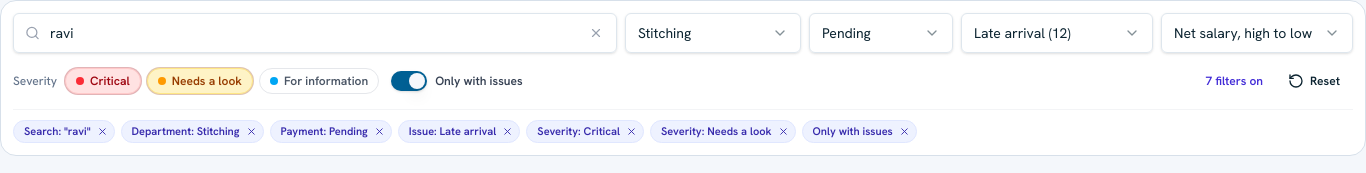
Test: the chips, the count and Reset › a chip's cross takes off that filter only
Click the button named "Clear the department filter" at (251, 131), box x1=244 y1=124 x2=258 y2=139
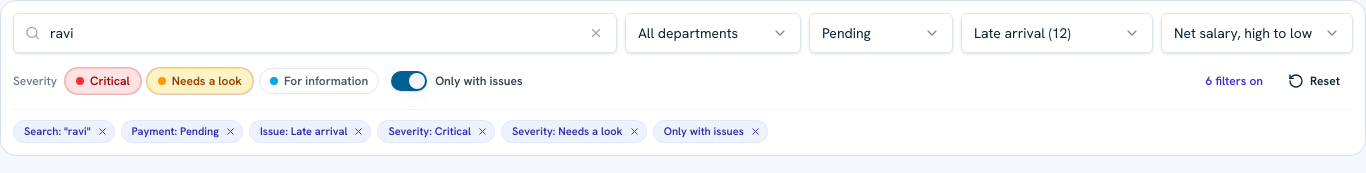
Now the text "6 filters on" is shown, box x1=1206 y1=73 x2=1263 y2=89
